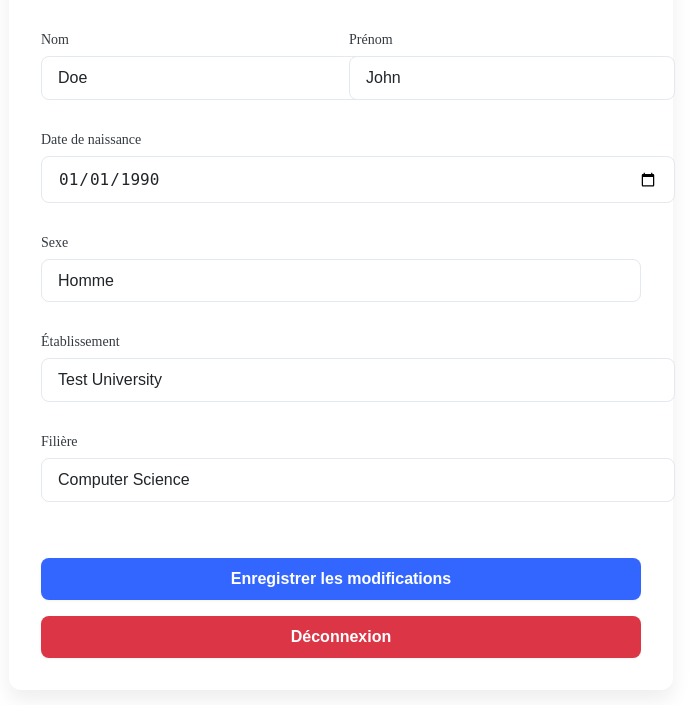
Test: ProfilePage › handles profile update failure and shows error message
(page scrolled)
Click the button "Enregistrer les modifications" at point(341, 579), box [41, 558, 641, 600]
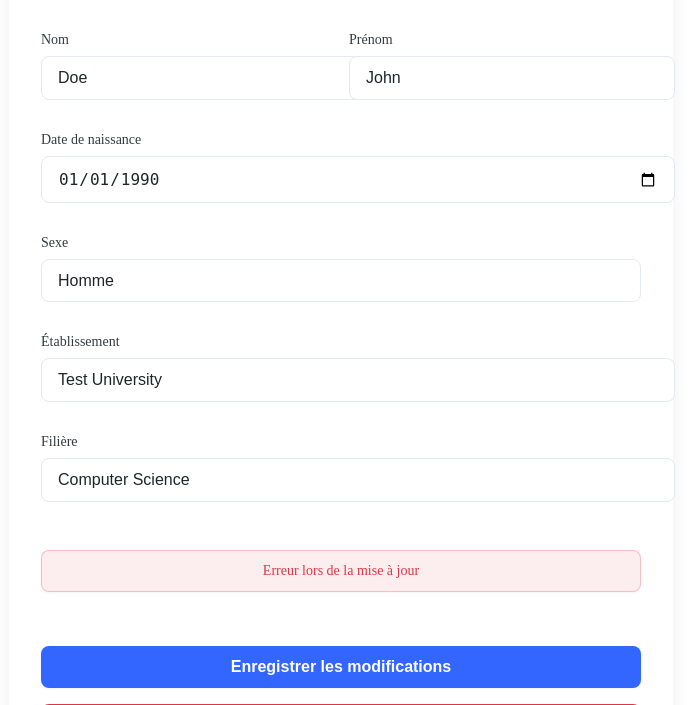
expect the text "Erreur lors de la mise à jour" is shown: met, box [41, 550, 641, 592]
